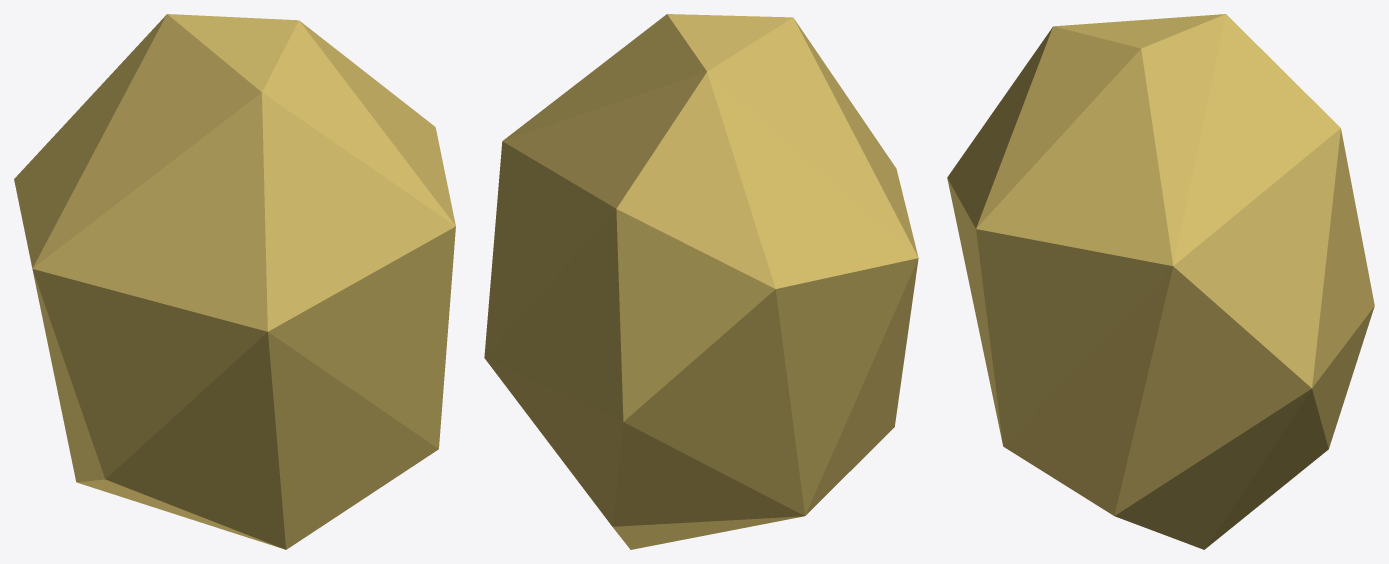
The model's file is obs2.fbx.
3 views of the same model, side by side, from view 1: azimuth 30°, elevation 25°; view 2: azimuth 150°, elevation 25°; view 3: azimuth 270°, elevation 25° (orthographic). The views are drawn at different scales.
Visible parts, largest first — view 1: Icosphere; view 2: Icosphere; view 3: Icosphere.
Boxes of the visible parts, box(x1,y1,x2,y2) form: Icosphere: box(14, 14, 455, 549); Icosphere: box(484, 14, 918, 549); Icosphere: box(947, 14, 1374, 549).
Size of the model in its own units: 205 by 250 by 194.
